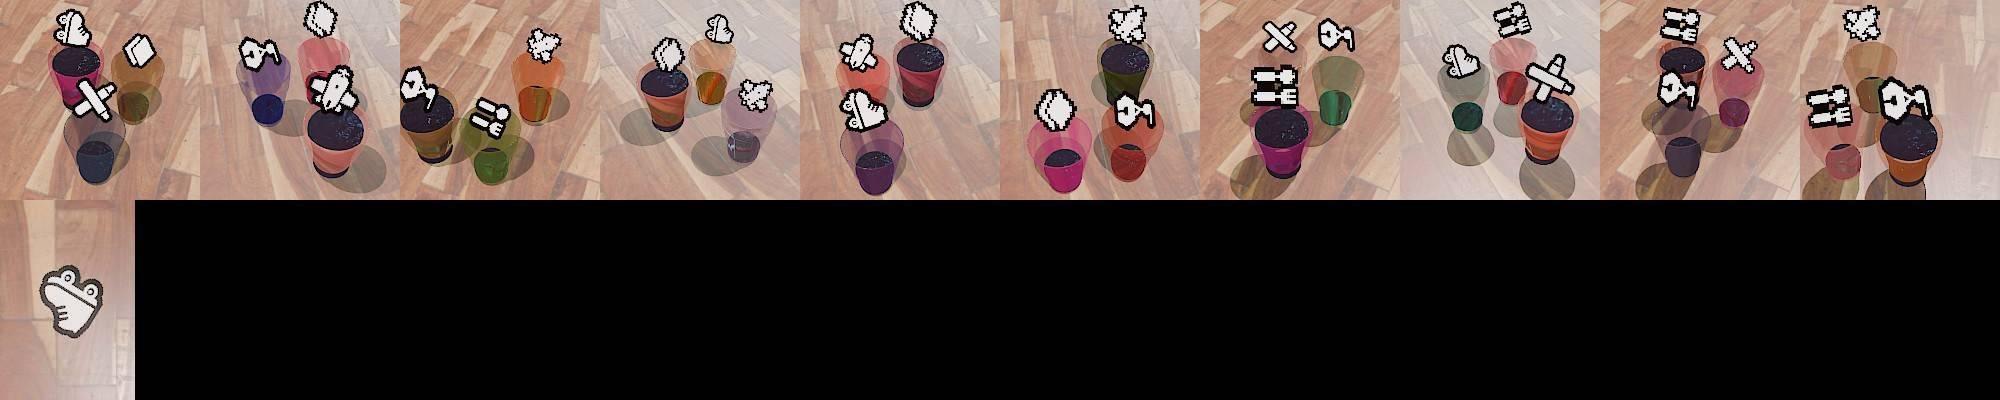icon: (40, 264, 105, 339), (1878, 76, 1935, 124), (307, 62, 358, 115), (1523, 54, 1575, 102), (399, 65, 445, 115), (839, 88, 889, 132), (1249, 65, 1298, 110), (73, 76, 119, 122), (1805, 84, 1853, 127), (1033, 88, 1077, 132), (468, 94, 513, 138), (1657, 70, 1699, 113), (1112, 92, 1157, 130), (898, 1, 939, 42), (1106, 5, 1148, 43), (1659, 6, 1702, 45), (55, 8, 93, 47), (1492, 1, 1533, 38), (239, 36, 281, 71), (838, 33, 876, 71), (1441, 43, 1481, 80), (1842, 5, 1880, 42), (526, 27, 562, 64), (1318, 17, 1356, 52), (1261, 19, 1300, 55), (737, 76, 773, 113), (302, 1, 338, 38), (1721, 37, 1758, 73), (121, 32, 157, 69), (651, 36, 685, 73), (704, 13, 733, 43)
